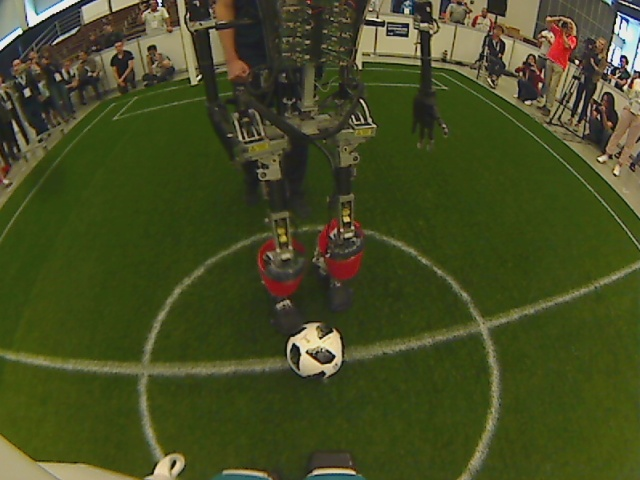ball: (285, 324, 346, 382)
goalpost: (178, 74, 206, 97), (353, 57, 371, 73)
robot: (270, 279, 352, 329)
